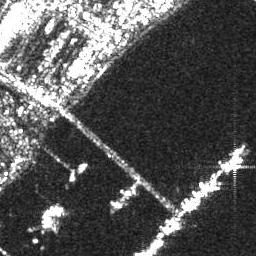ship: (224, 155, 242, 175), (108, 198, 125, 210), (74, 162, 89, 175), (119, 188, 137, 196)
